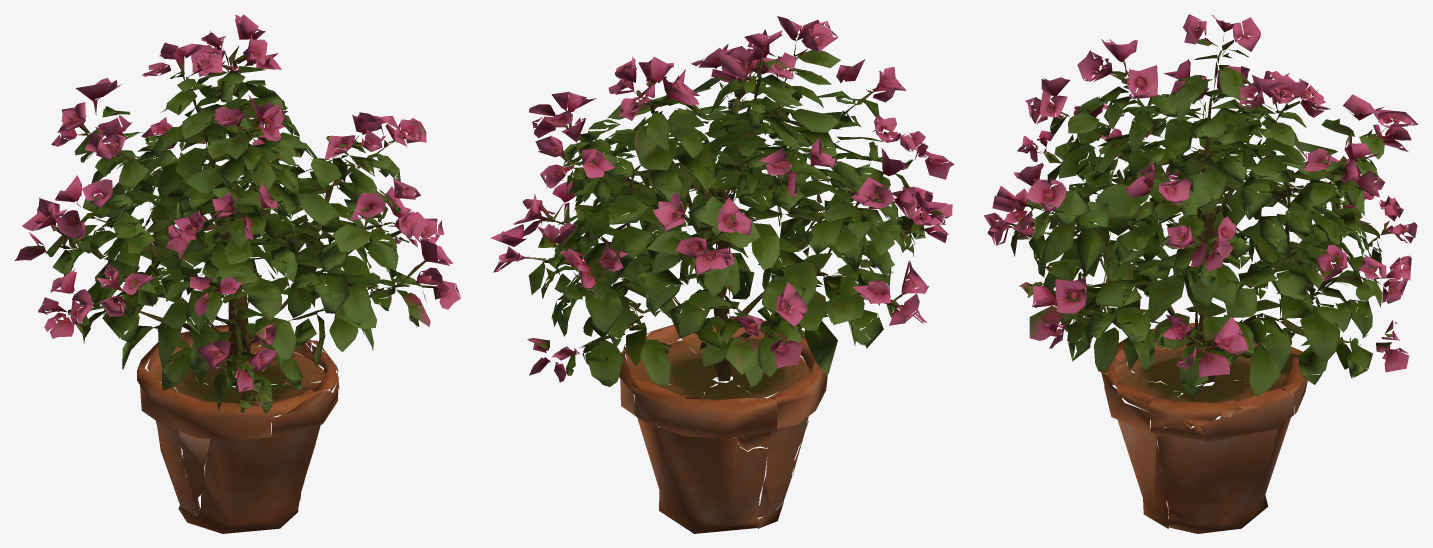
File: sunward_flowers.glb
3 renders of one model, left to right at view 1: azimuth 30°, elevation 25°; view 2: azimuth 150°, elevation 25°; view 3: azimuth 270°, elevation 25°, orthographic. The views are drawn at different scales.
Parts seen in each view (by area): view 1: tripo_node_a5516881-48f7-4c73-9c9f-3484834e1712; view 2: tripo_node_a5516881-48f7-4c73-9c9f-3484834e1712; view 3: tripo_node_a5516881-48f7-4c73-9c9f-3484834e1712.
Part boxes in pixels (x1,y1,x2,y2): tripo_node_a5516881-48f7-4c73-9c9f-3484834e1712: (15,14,460,533); tripo_node_a5516881-48f7-4c73-9c9f-3484834e1712: (490,16,954,533); tripo_node_a5516881-48f7-4c73-9c9f-3484834e1712: (984,14,1418,533).
Bounding box in the file's own units: 1.45 × 1.65 × 1.39.
Materials: 1 (1 with a texture image).
